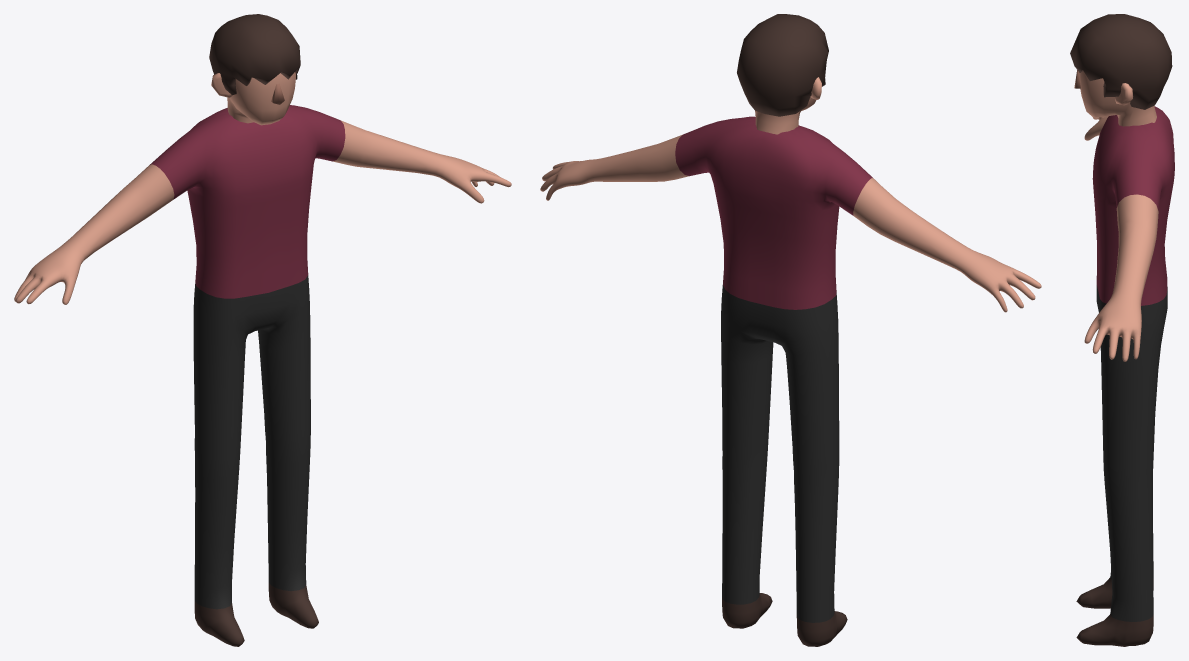
The model's file is DORIAN.fbx.
3 views of the same model, side by side, from view 1: azimuth 30°, elevation 25°; view 2: azimuth 150°, elevation 25°; view 3: azimuth 270°, elevation 25° (orthographic).
Visible parts, largest first — view 1: head.009; view 2: head.009; view 3: head.009.
Boxes of the visible parts, box(x1,y1,x2,y2) form: head.009: box(14, 14, 511, 646); head.009: box(540, 14, 1041, 646); head.009: box(1070, 14, 1174, 646).
Bounding box in the file's own units: 150 × 178 × 27.88.
